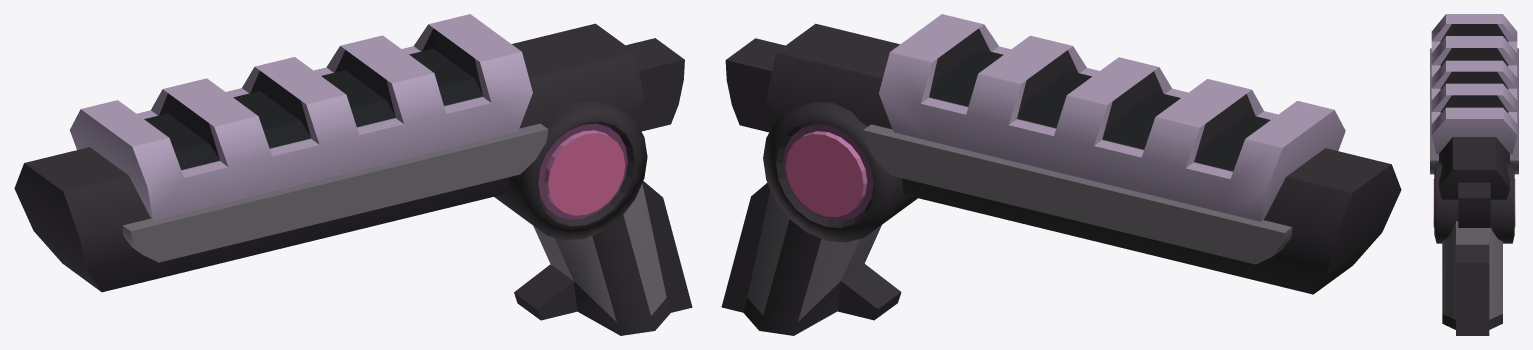
The model's file is Gun1.fbx.
The picture shows the model from 3 angles, left to right: view 1: azimuth 30°, elevation 25°; view 2: azimuth 150°, elevation 25°; view 3: azimuth 270°, elevation 25°; orthographic projection. The views are drawn at different scales.
Visible parts, largest first — view 1: pasted__pCube1 (×4), pCube1, pCylinder1; view 2: pasted__pCube1 (×4), pCube1, pCylinder1; view 3: pasted__pCube1 (×4), pCube1, pCylinder1.
Part boxes in pixels (x1,y1,x2,y2): pasted__pCube1 (×4): (70, 14, 692, 335); pCube1: (14, 23, 644, 292); pCylinder1: (494, 101, 647, 240); pasted__pCube1 (×4): (721, 14, 1345, 335); pCube1: (766, 23, 1401, 294); pCylinder1: (763, 102, 917, 242); pasted__pCube1 (×4): (1430, 14, 1518, 335); pCube1: (1439, 137, 1509, 199); pCylinder1: (1433, 163, 1515, 243).
Bounding box in the file's own units: 9.94 × 4.63 × 2.19.
